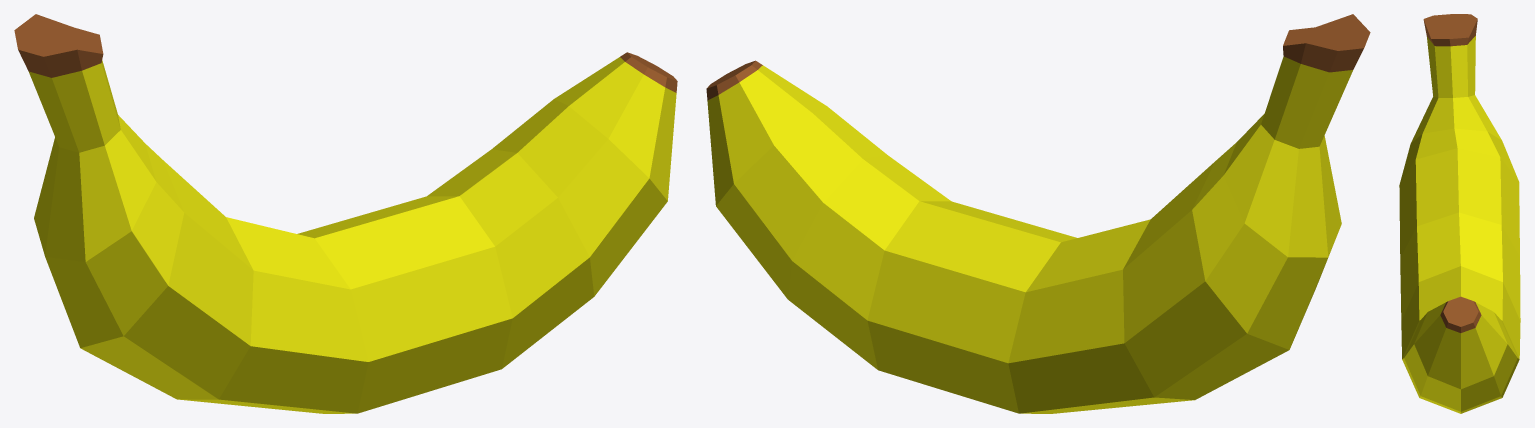
The model's file is banana.fbx.
3 renders of one model, left to right at view 1: azimuth 30°, elevation 25°; view 2: azimuth 150°, elevation 25°; view 3: azimuth 270°, elevation 25°, orthographic. The views are drawn at different scales.
Visible parts, largest first — view 1: banana; view 2: banana; view 3: banana.
Part boxes in pixels (left/top/right/bottom): banana: left=14, top=14, right=677, bottom=413; banana: left=706, top=14, right=1370, bottom=413; banana: left=1399, top=14, right=1520, bottom=413.
Bounding box in the file's own units: 49.07 × 32.34 × 12.82.
Materials: 1 (1 with a texture image).
